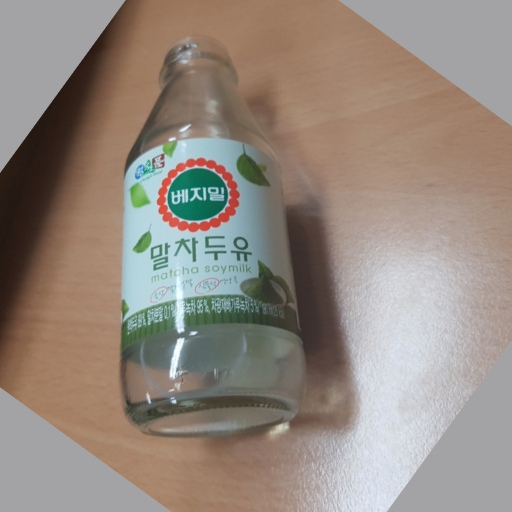Glass_4: (119, 30, 307, 434)
